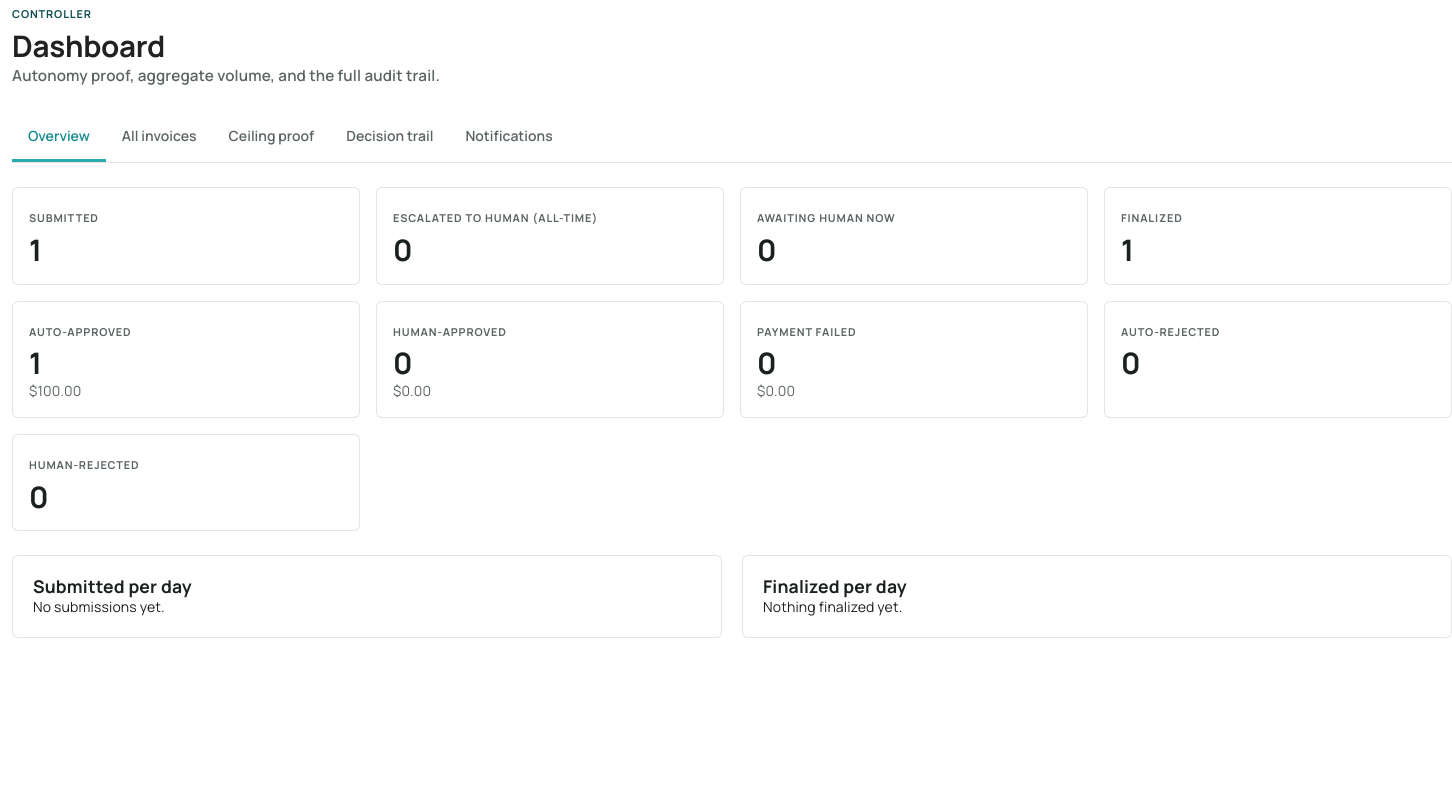
Scenario: ControllerDashboard › switches to the decision trail panel
Click the tab "Decision trail": (390, 136) [330, 110, 449, 162]
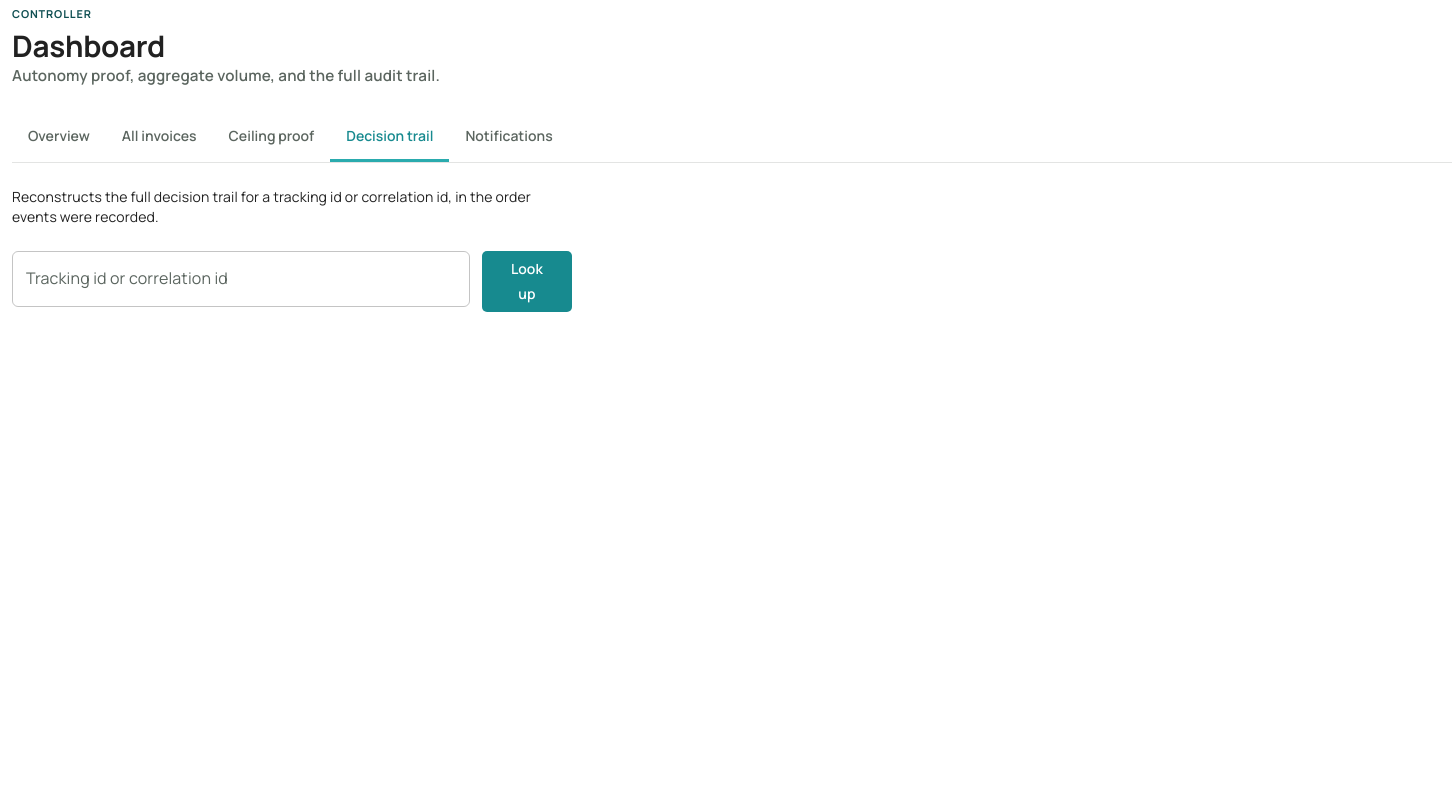
expect the field labelled "Tracking id or correlation id" is shown: met, box [12, 251, 470, 307]
